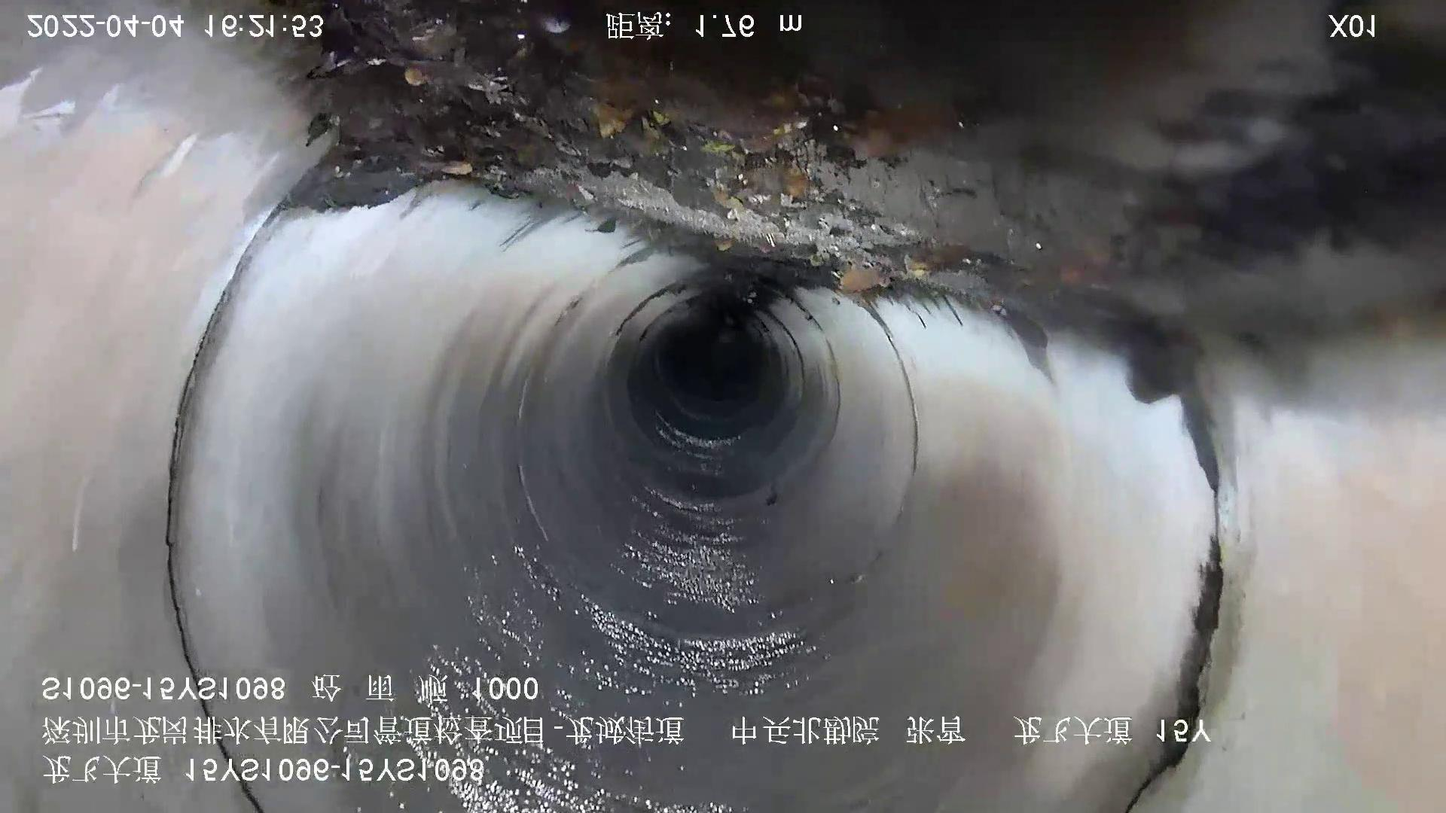CJ: (292, 1, 1445, 352)
CKTJ: (151, 157, 334, 811), (1112, 321, 1237, 812)
